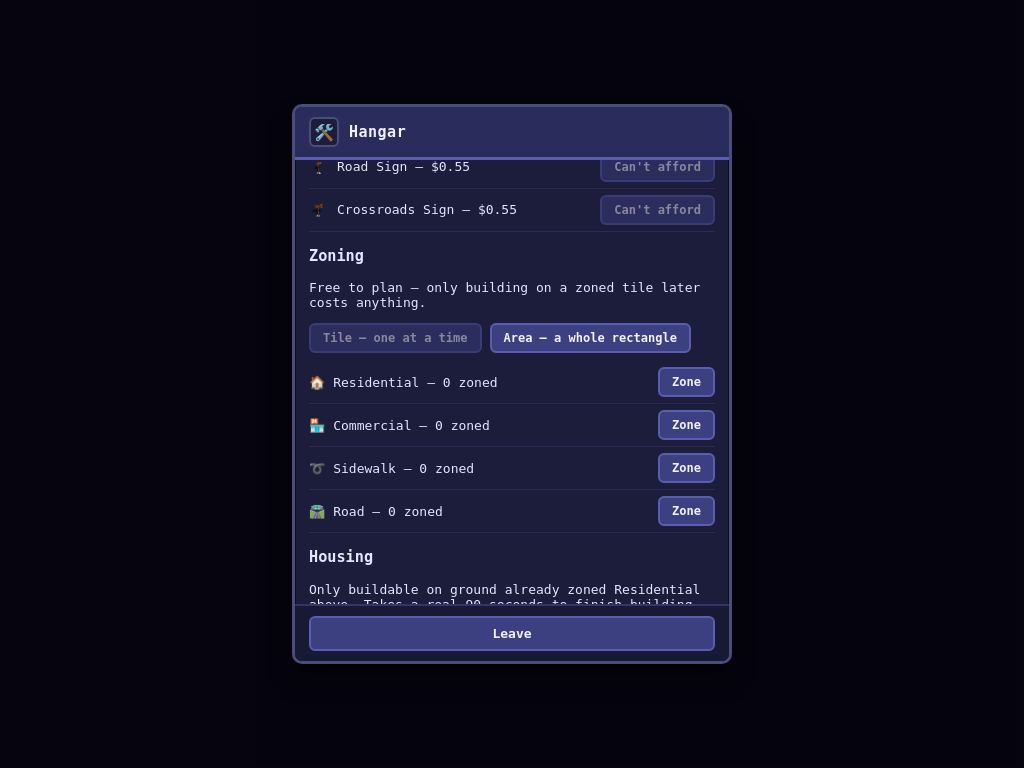
Test: HangarOverlay › Zoning (zoning.md) › arming a second zone type re-arms rather than queuing
(page scrolled)
Step 1. Click the 1st button "Zone" → (687, 382), box x1=658 y1=367 x2=715 y2=397
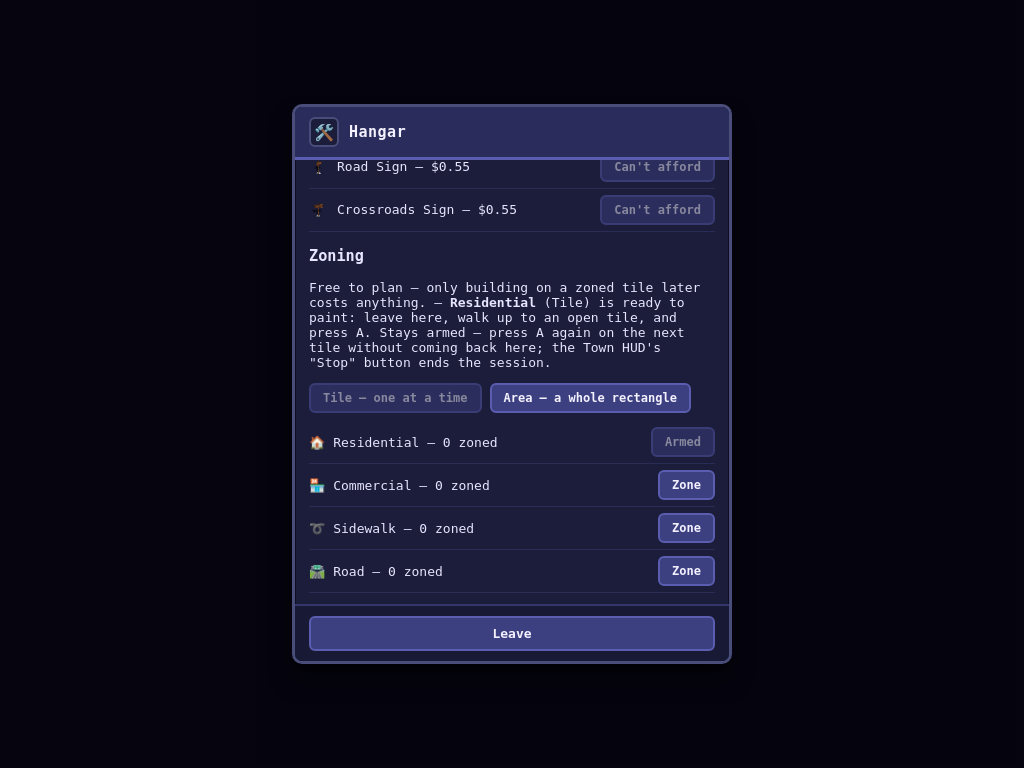
Step 2. Click the button "Zone" in the row of "Commercial" → (687, 485), box x1=658 y1=470 x2=715 y2=500
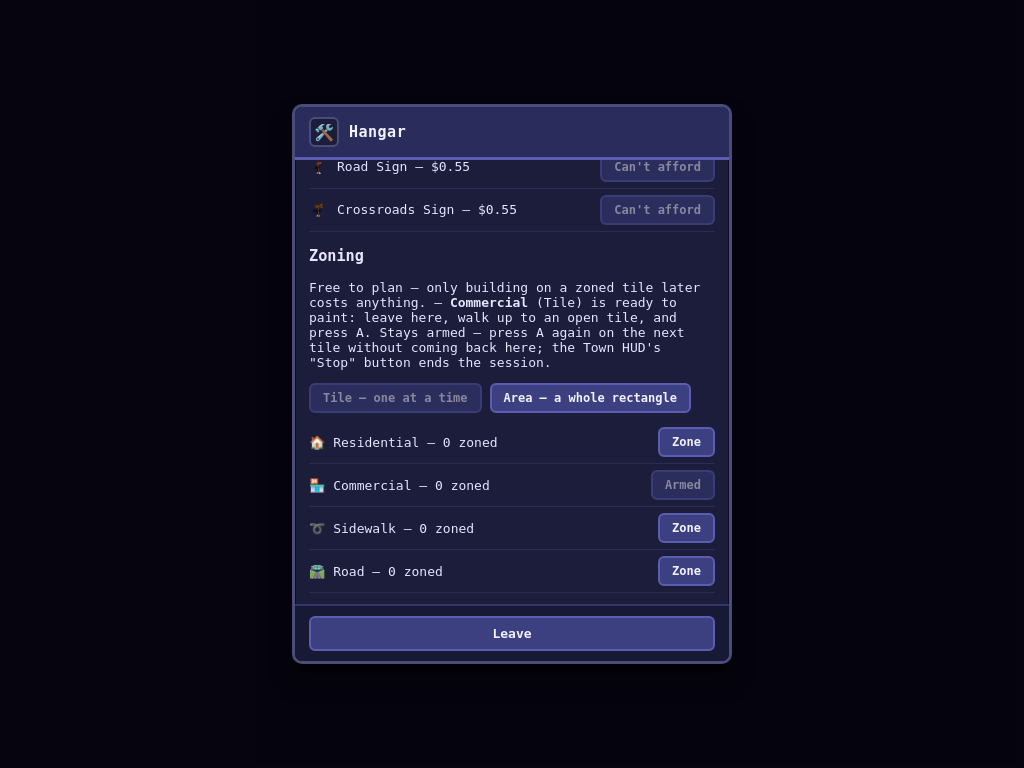
Expected: the number of buttons "Armed" is 1, x1=651 y1=470 x2=715 y2=500
Now the text "Commercial" is shown, box x1=450 y1=295 x2=528 y2=310
